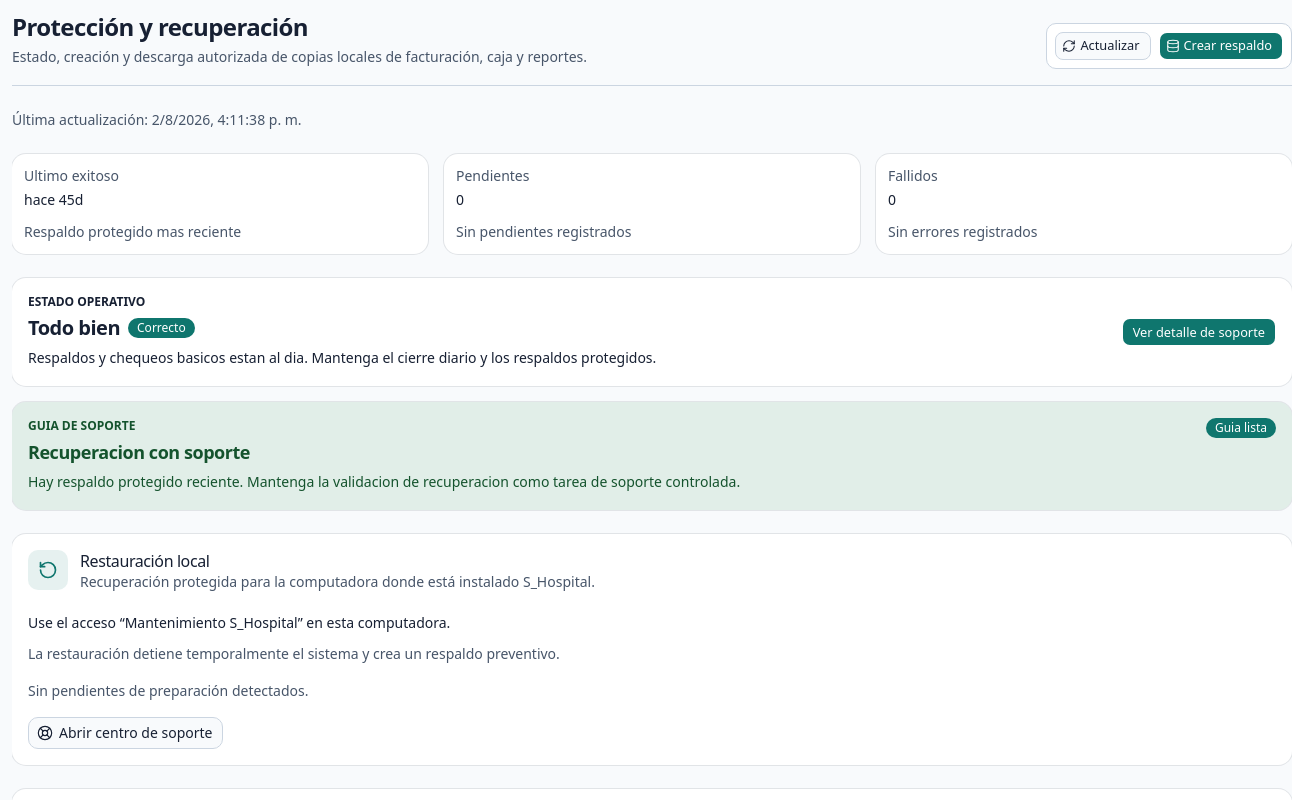
Scenario: BackupsView › keeps support diagnostics collapsed behind a human support label
The width and height of the screenshot is (1292, 800).
Expected: the text "checklist operativo" is not shown
Expected: the text "pruebas de campo obligatorias" is not shown
Click the button "Ver detalle de soporte".
click(1199, 332)  # box [1122, 318, 1276, 346]
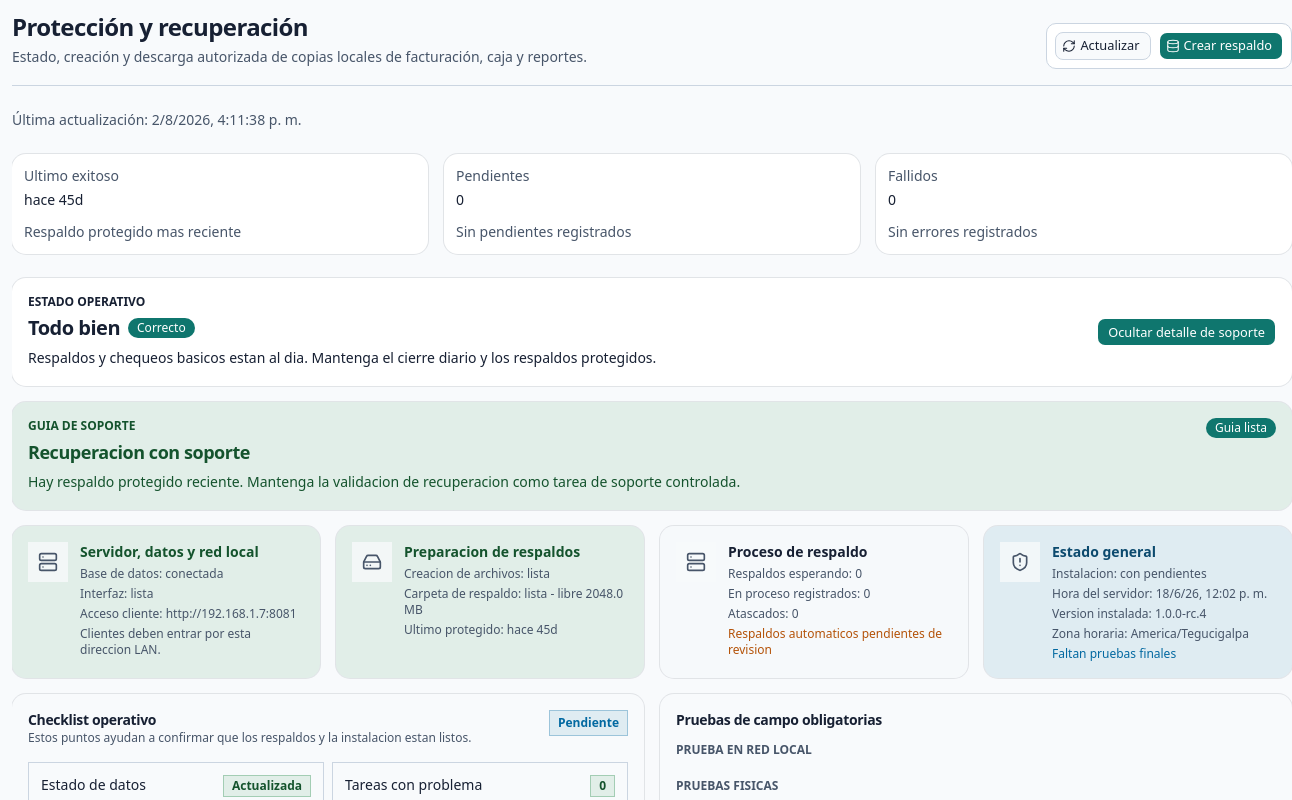
Expected: the heading "Checklist operativo" is shown, [28, 710, 156, 729]
Expected: the heading "Pruebas de campo obligatorias" is shown, [676, 710, 882, 729]
Expected: the button "Ocultar detalle de soporte" is expanded, [1097, 318, 1276, 346]
